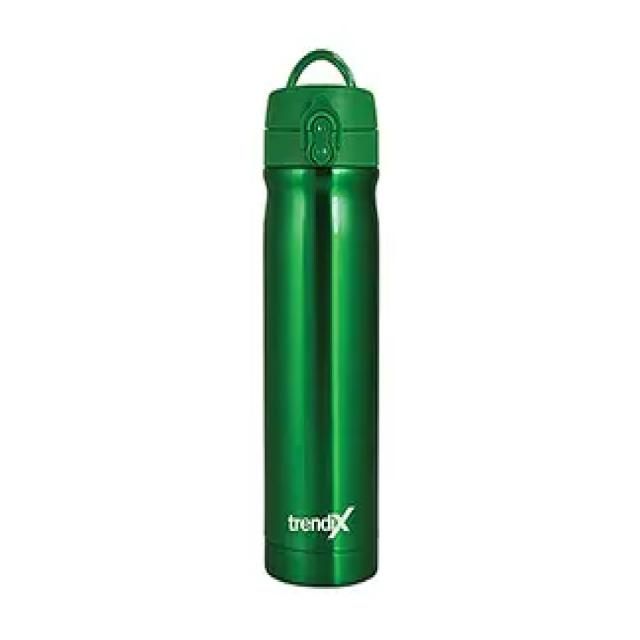Termos: (259, 46, 381, 588)
